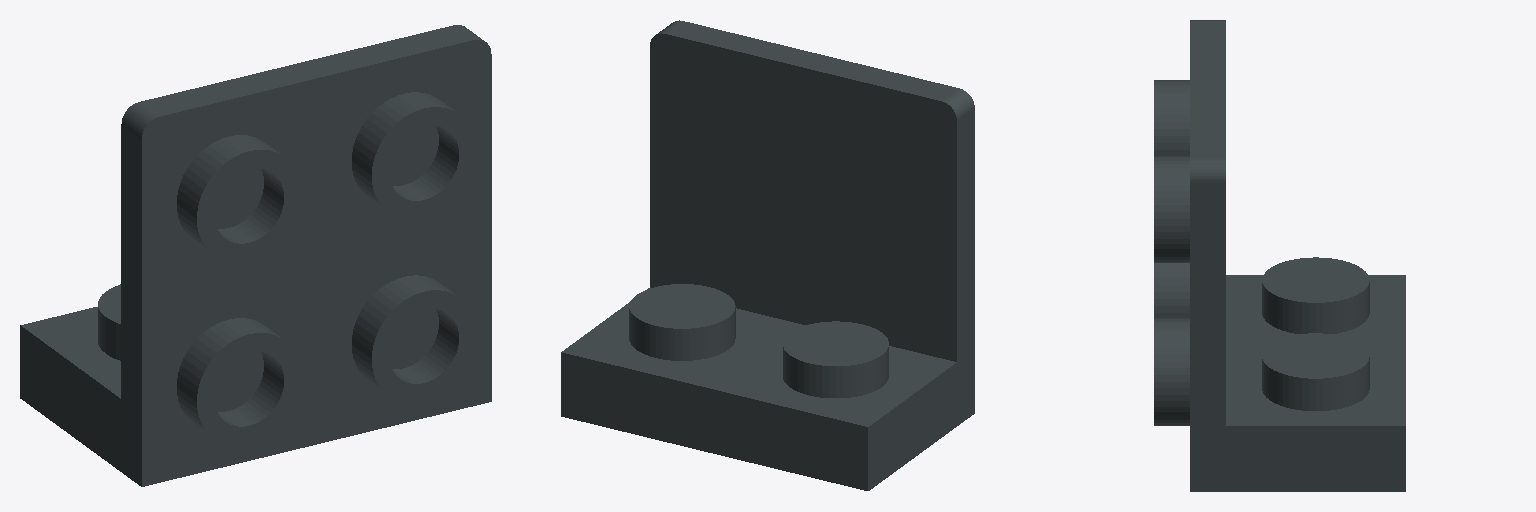
The robot description file, URDF, robot "99207__dark_bluish_gray":
<?xml version="1.0"?>
<robot name="99207__dark_bluish_gray">
  <link name="99207__dark_bluish_gray">
    <inertial>
      <origin xyz="0.000000 -0.002616 0.003240" rpy="0 0 0"/>
      <mass value="0.002065"/>
      <inertia ixx="5.289587295e-08" ixy="-1.421176163e-24" ixz="4.711691138e-25" iyy="7.882450187e-08" iyz="1.021042271e-08" izz="5.936600943e-08"/>
    </inertial>
    <visual>
      <geometry>
        <mesh filename="../meshes/visual/99207.obj" scale="1 1 1"/>
      </geometry>
      <material name="99207__dark_bluish_gray_color">
        <color rgba="0.320 0.350 0.360 1.000"/>
      </material>
    </visual>
    <collision>
      <geometry>
        <mesh filename="../meshes/collision/99207_hull.obj" scale="1 1 1"/>
      </geometry>
    </collision>
  </link>
</robot>

--- Facts derived from the render (not from the file) ---
3 views of the same robot in one strip: view 1: azimuth 30°, elevation 25°; view 2: azimuth 150°, elevation 25°; view 3: azimuth 270°, elevation 25° (orthographic).
Robot: 99207__dark_bluish_gray — 1 links, 0 joints (none); root link 99207__dark_bluish_gray; default pose: all joints at 0.
Visible links, largest first — view 1: 99207__dark_bluish_gray; view 2: 99207__dark_bluish_gray; view 3: 99207__dark_bluish_gray.
Boxes of the visible links, x1,y1,x2,y2 form: 99207__dark_bluish_gray: (20,25,491,486); 99207__dark_bluish_gray: (561,20,974,490); 99207__dark_bluish_gray: (1154,20,1405,491).
Bounding box of the posed robot: 0.016 × 0.0112 × 0.016 m (x, y, z).
1 mesh visuals loaded from 1 distinct referenced files (1 OBJ).
